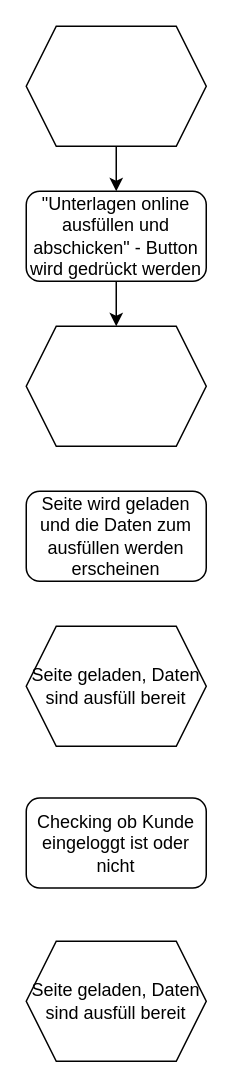
This 233x1088 diagram has some shape labels left out. The shapes that lost their labels are listed below. From the top down, each one's centre as x and y in pixels, then its label:
the point at 115,85: Auf Ummeldungsseite
the point at 115,385: Button gedrückt
